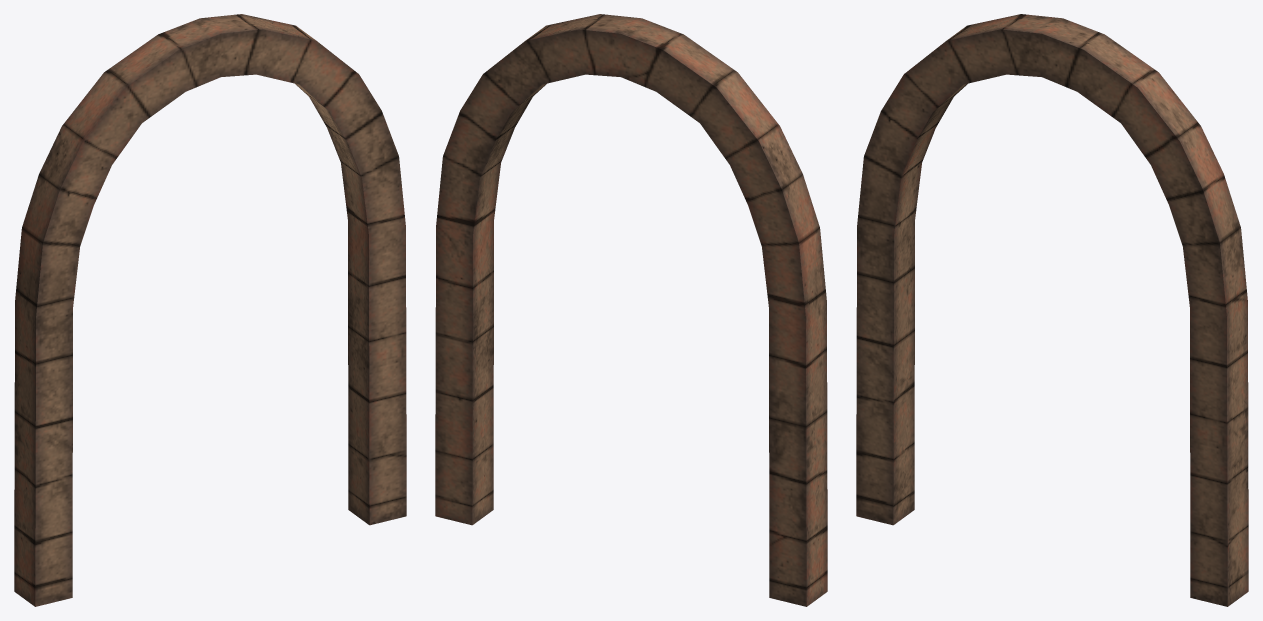
File: sb_obj_outdoor001_Castle01_door02.fbx
The picture shows the model from 3 angles, left to right: view 1: azimuth 30°, elevation 25°; view 2: azimuth 150°, elevation 25°; view 3: azimuth 330°, elevation 25°; orthographic projection.
Parts seen in each view (by area): view 1: sb_obj_outdoor001_Castle01_door02; view 2: sb_obj_outdoor001_Castle01_door02; view 3: sb_obj_outdoor001_Castle01_door02.
Boxes of the visible parts, bbox=[...] form: sb_obj_outdoor001_Castle01_door02: bbox=[14, 14, 406, 606]; sb_obj_outdoor001_Castle01_door02: bbox=[435, 14, 827, 606]; sb_obj_outdoor001_Castle01_door02: bbox=[856, 14, 1248, 606].
Bounding box in the file's own units: 2.44 × 3.31 × 0.2394.
